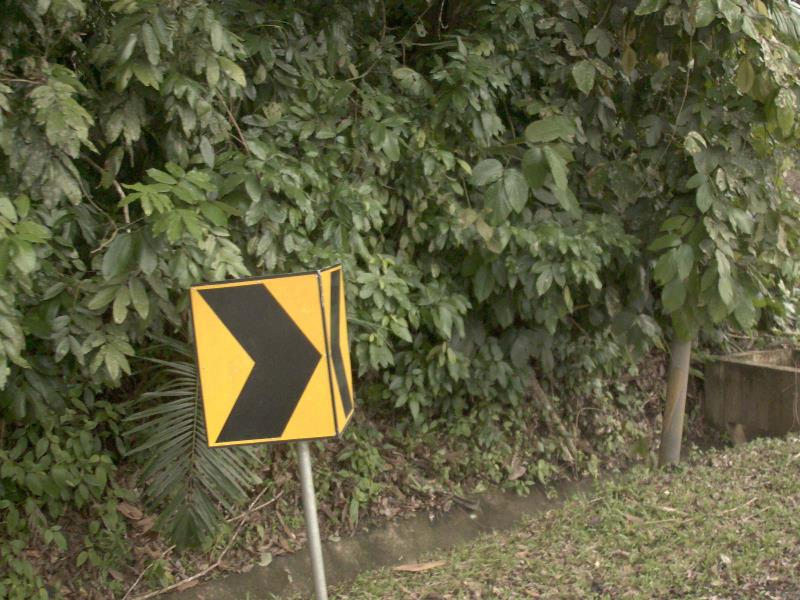traffic_sign: (167, 240, 360, 469)
